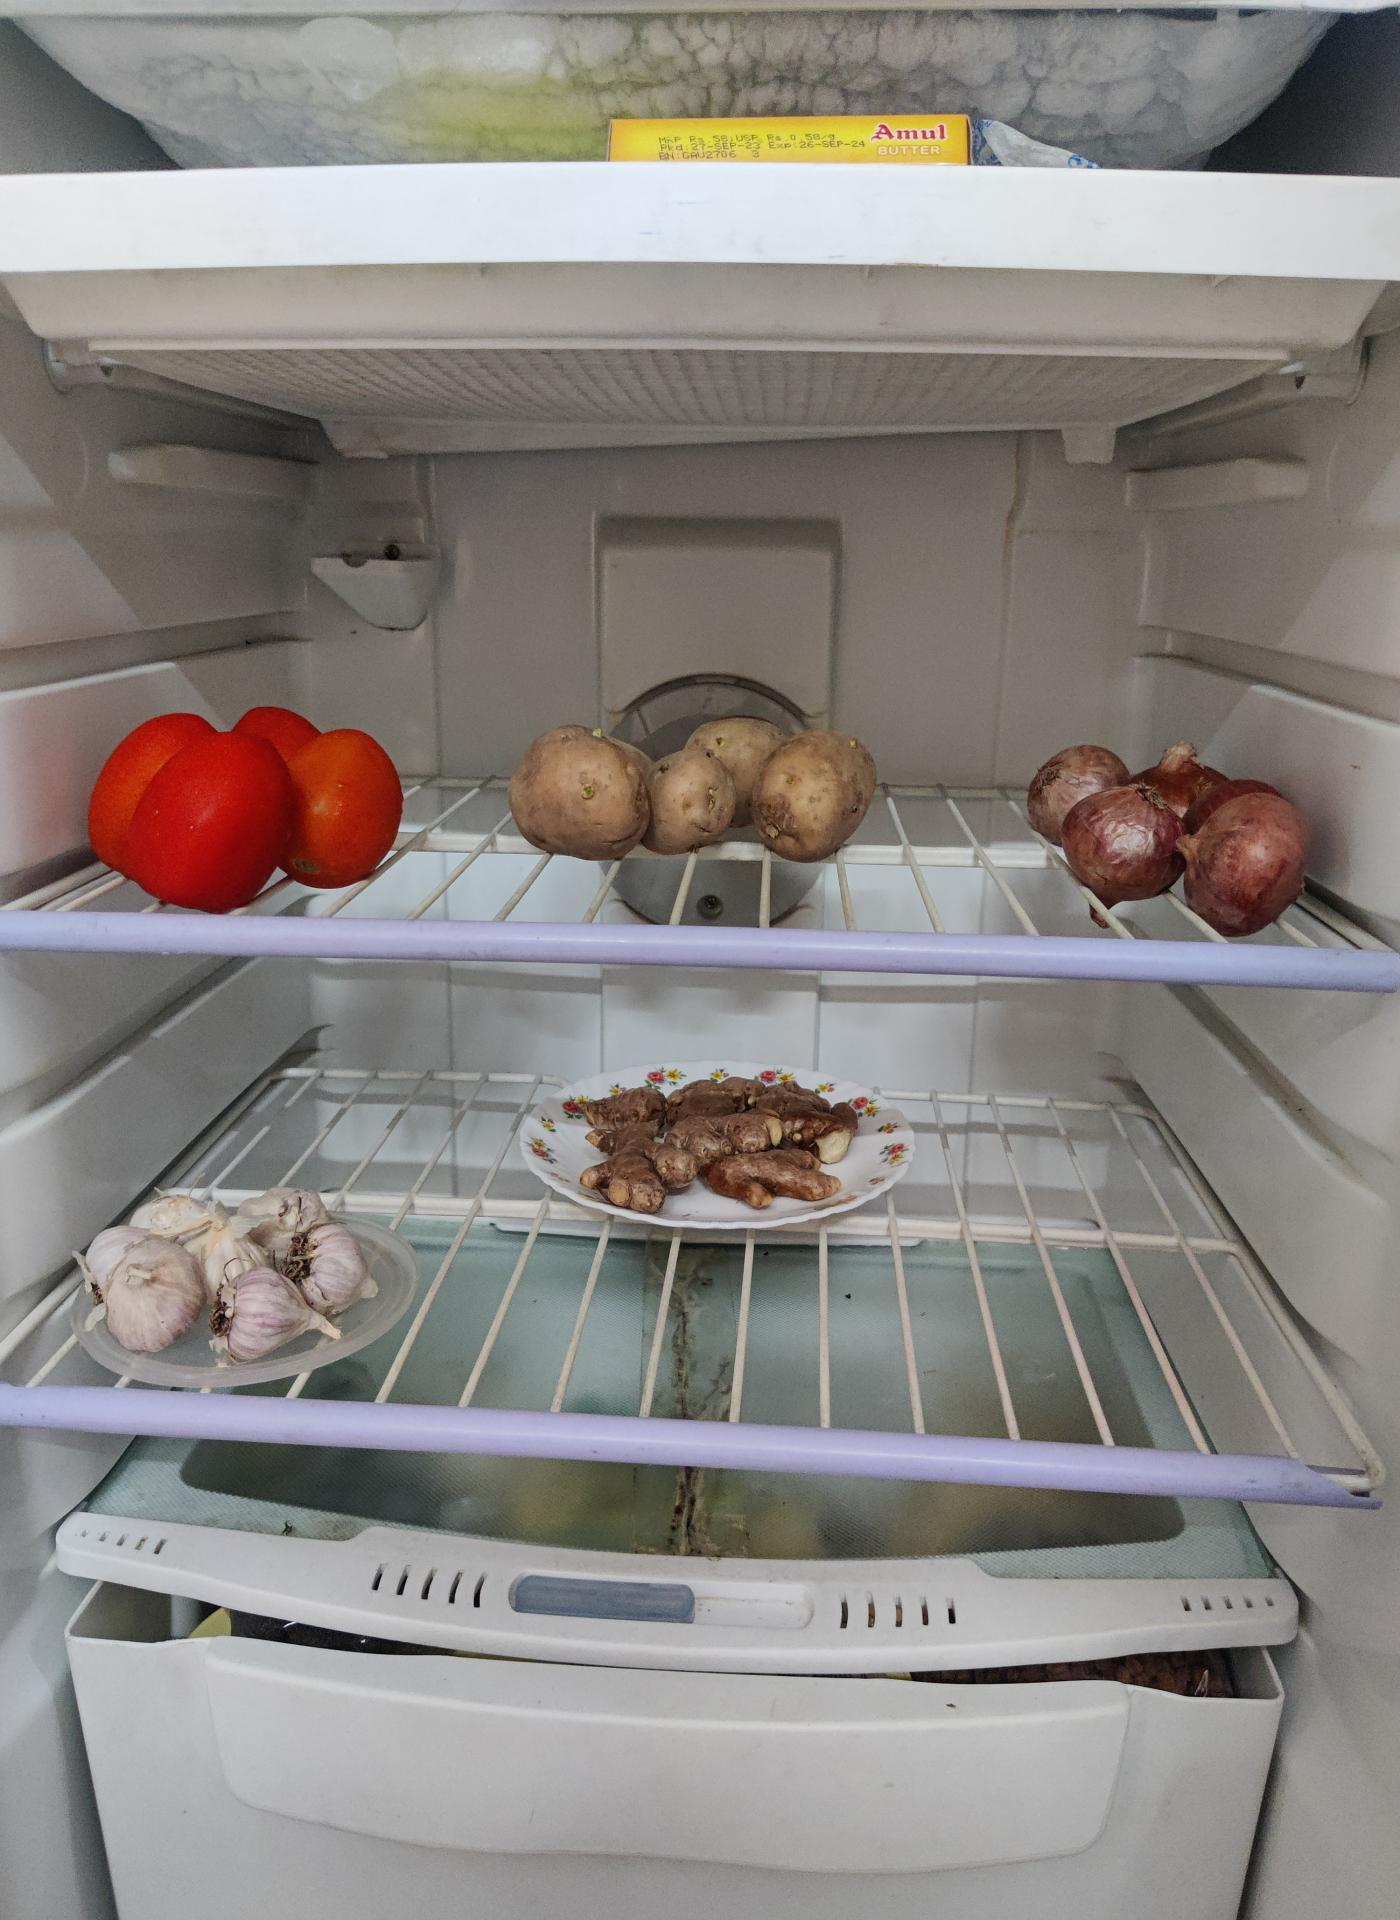carrots: (1024, 741, 1312, 933)
garlic: (91, 1185, 377, 1354)
ginger: (546, 1070, 884, 1213)
potato: (514, 720, 884, 866)
tomato: (92, 711, 409, 915)
